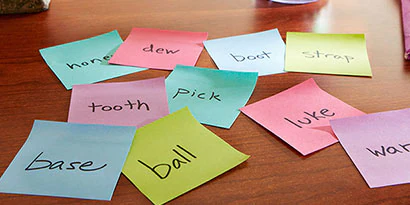Note: (119, 109, 250, 201), (2, 120, 136, 199), (242, 80, 368, 156), (41, 28, 150, 87), (330, 109, 410, 189), (161, 65, 258, 128), (68, 78, 169, 129), (110, 26, 210, 69), (286, 29, 372, 79), (204, 29, 289, 77)
